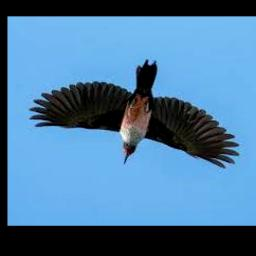Woodpecker: (30, 60, 239, 168)
